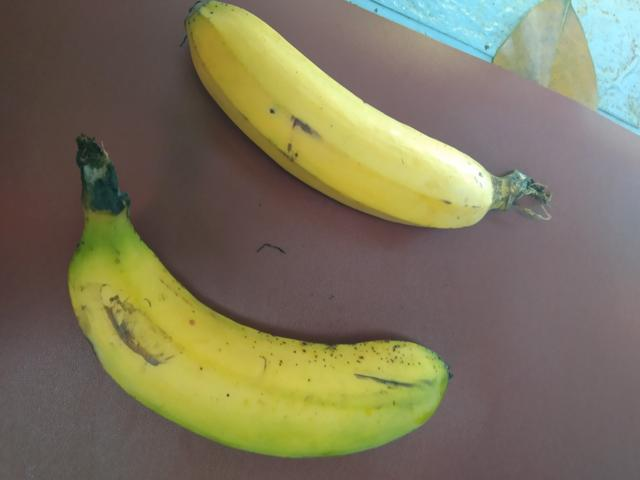freshripe: (170, 0, 500, 255)
ripe: (58, 234, 458, 479)
